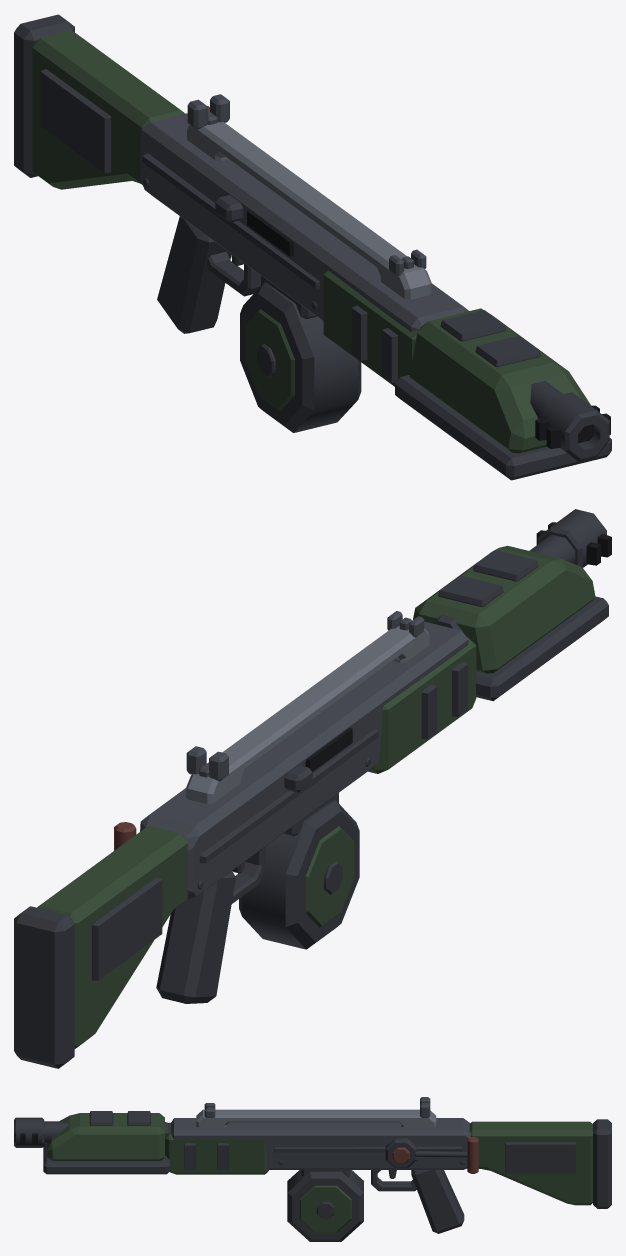
File: w_autoshot.glb
The picture shows the model from 3 angles, top to bottom: view 1: azimuth 30°, elevation 25°; view 2: azimuth 150°, elevation 25°; view 3: azimuth 270°, elevation 25°; orthographic projection. The views are drawn at different scales.
Visible parts, largest first — view 1: body_wzB__frame__p444851, stock_wzA__body__p364a36, mower_wzA__body__p364a36, mag_wzB__dark__p353840, deck_wzA__deck__p676d78, mower_wzN__dark__p353840, grip_wzB__dark__p353840, stock_wzN__dark__p353840, guard_wzA__body__p364a36, stock_wzB__dark__p353840, barrel_wzB__dark__p353840, mag_wzN__body__p364a36 (+4 smaller); view 2: body_wzB__frame__p444851, stock_wzA__body__p364a36, mower_wzA__body__p364a36, stock_wzB__dark__p353840, mag_wzB__dark__p353840, grip_wzB__dark__p353840, deck_wzA__deck__p676d78, mower_wzN__dark__p353840, guard_wzA__body__p364a36, stock_wzN__dark__p353840, mag_wzN__body__p364a36, barrel_wzB__dark__p353840 (+4 smaller); view 3: body_wzB__frame__p444851, stock_wzA__body__p364a36, mower_wzA__body__p364a36, deck_wzA__deck__p676d78, guard_wzA__body__p364a36, mag_wzB__dark__p353840, grip_wzB__dark__p353840, mower_wzN__dark__p353840, stock_wzN__dark__p353840, mag_wzN__body__p364a36, stock_wzB__dark__p353840, barrel_wzB__dark__p353840 (+6 smaller).
Boxes of the visible parts, x1=… form: body_wzB__frame__p444851: x1=140, y1=113, x2=468, y2=332; stock_wzA__body__p364a36: x1=32, y1=30, x2=184, y2=189; mower_wzA__body__p364a36: x1=409, y1=308, x2=591, y2=453; mag_wzB__dark__p353840: x1=240, y1=276, x2=361, y2=432; deck_wzA__deck__p676d78: x1=187, y1=122, x2=431, y2=299; mower_wzN__dark__p353840: x1=395, y1=310, x2=611, y2=480; grip_wzB__dark__p353840: x1=157, y1=216, x2=260, y2=333; stock_wzN__dark__p353840: x1=40, y1=69, x2=110, y2=173; guard_wzA__body__p364a36: x1=323, y1=270, x2=420, y2=386; stock_wzB__dark__p353840: x1=14, y1=14, x2=74, y2=177; barrel_wzB__dark__p353840: x1=530, y1=380, x2=609, y2=461; mag_wzN__body__p364a36: x1=245, y1=309, x2=294, y2=410; body_wzB__frame__p444851: x1=140, y1=621, x2=468, y2=899; stock_wzA__body__p364a36: x1=37, y1=825, x2=187, y2=1048; mower_wzA__body__p364a36: x1=413, y1=545, x2=595, y2=673; stock_wzB__dark__p353840: x1=14, y1=906, x2=74, y2=1068; mag_wzB__dark__p353840: x1=239, y1=793, x2=359, y2=949; grip_wzB__dark__p353840: x1=156, y1=846, x2=265, y2=1003; deck_wzA__deck__p676d78: x1=186, y1=626, x2=429, y2=804; mower_wzN__dark__p353840: x1=438, y1=550, x2=608, y2=701; guard_wzA__body__p364a36: x1=368, y1=636, x2=476, y2=773; stock_wzN__dark__p353840: x1=92, y1=877, x2=162, y2=980; mag_wzN__body__p364a36: x1=305, y1=826, x2=354, y2=927; barrel_wzB__dark__p353840: x1=432, y1=509, x2=606, y2=631; body_wzB__frame__p444851: x1=170, y1=1118, x2=470, y2=1169; stock_wzA__body__p364a36: x1=469, y1=1121, x2=592, y2=1205; mower_wzA__body__p364a36: x1=47, y1=1113, x2=164, y2=1160; deck_wzA__deck__p676d78: x1=196, y1=1109, x2=436, y2=1127; guard_wzA__body__p364a36: x1=165, y1=1122, x2=268, y2=1174; mag_wzB__dark__p353840: x1=287, y1=1170, x2=363, y2=1241; grip_wzB__dark__p353840: x1=371, y1=1170, x2=464, y2=1233; mower_wzN__dark__p353840: x1=43, y1=1111, x2=169, y2=1174; stock_wzN__dark__p353840: x1=505, y1=1142, x2=575, y2=1173; mag_wzN__body__p364a36: x1=299, y1=1185, x2=351, y2=1232; stock_wzB__dark__p353840: x1=593, y1=1119, x2=611, y2=1208; barrel_wzB__dark__p353840: x1=14, y1=1117, x2=168, y2=1147.
Bounding box in the file's own units: 0.14 × 0.3153 × 1.27.
